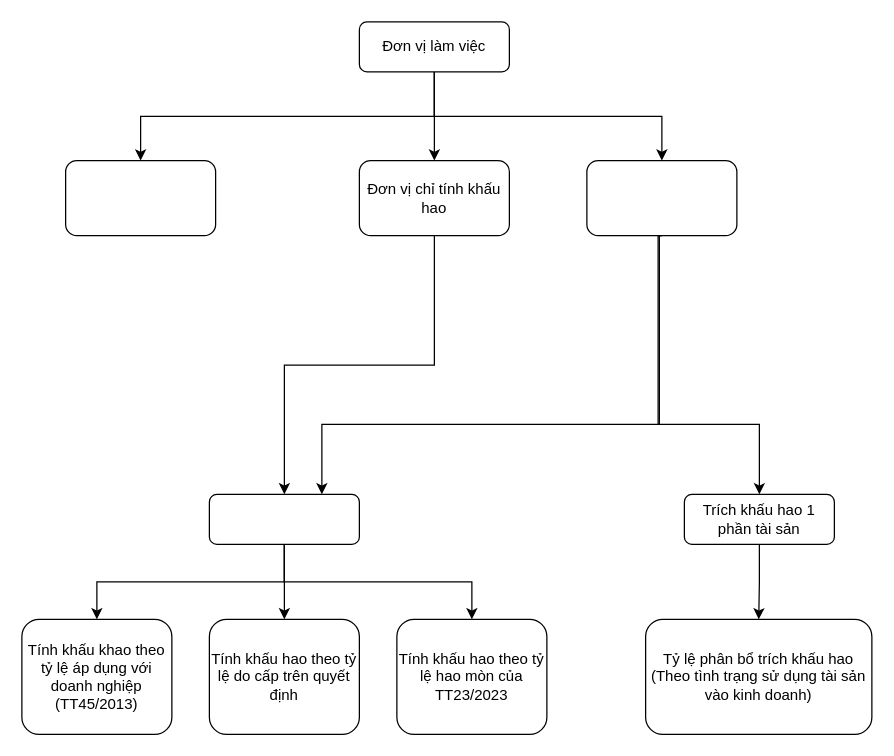
Image size: 894x756. Some labels were removed from this diagram. Here are the shapes that lost their labels. From the top down, the box of each, then its label:
(64, 159, 216, 236): Đơn vị chỉ tính hao mòn
(586, 159, 737, 236): Đơn vị tính hào mòn và khấu hao
(208, 493, 359, 544): Trích khấu hao toàn bộ tài sản
